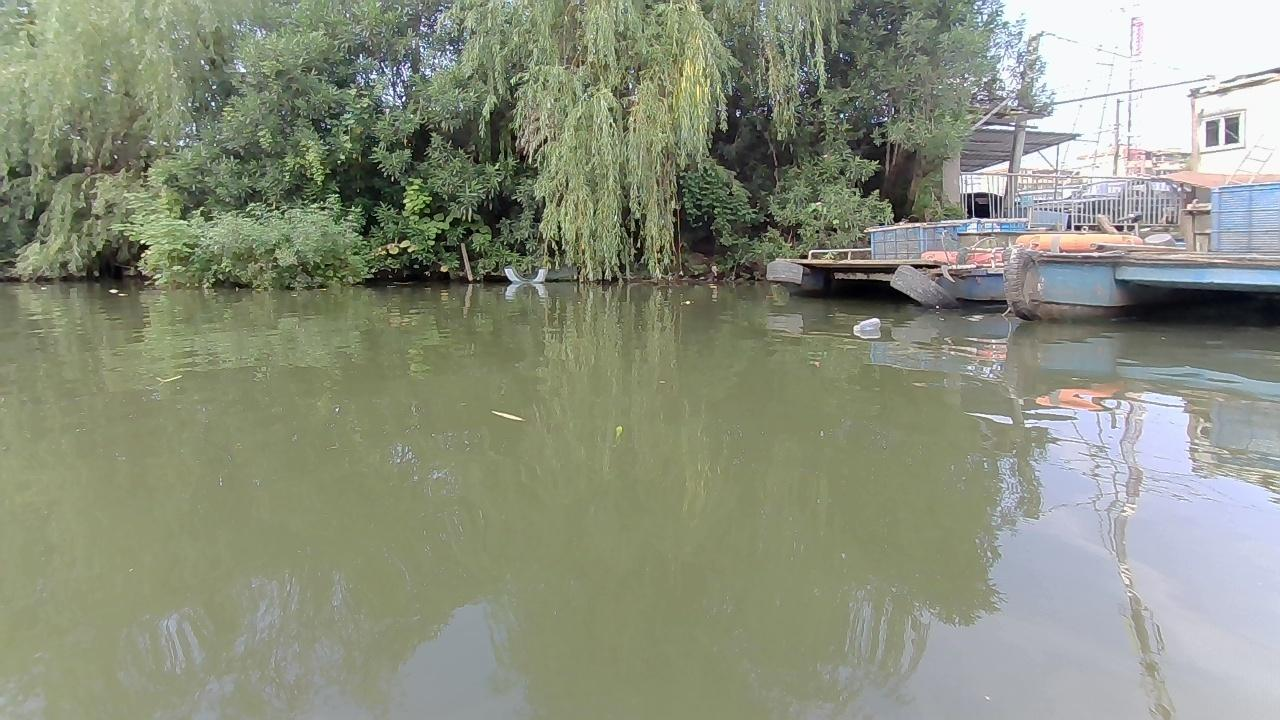bottle: (853, 317, 887, 339)
